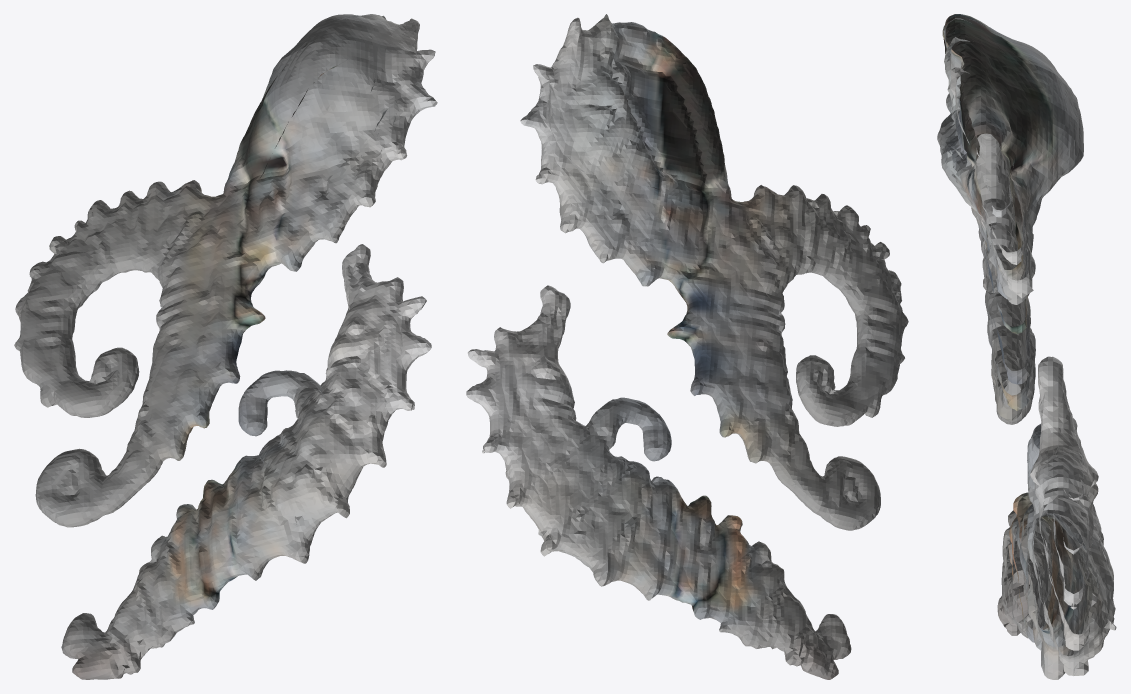
File: seahorse.glb
3 views of the same model, side by side, from view 1: azimuth 30°, elevation 25°; view 2: azimuth 150°, elevation 25°; view 3: azimuth 270°, elevation 25° (orthographic). The views are drawn at different scales.
Parts seen in each view (by area): view 1: world; view 2: world; view 3: world.
Boxes of the visible parts, x1=… form: world: x1=14, y1=14, x2=437, y2=679; world: x1=466, y1=14, x2=908, y2=679; world: x1=937, y1=14, x2=1116, y2=679.
Bounding box in the file's own units: 0.79 × 1.06 × 0.2373.
